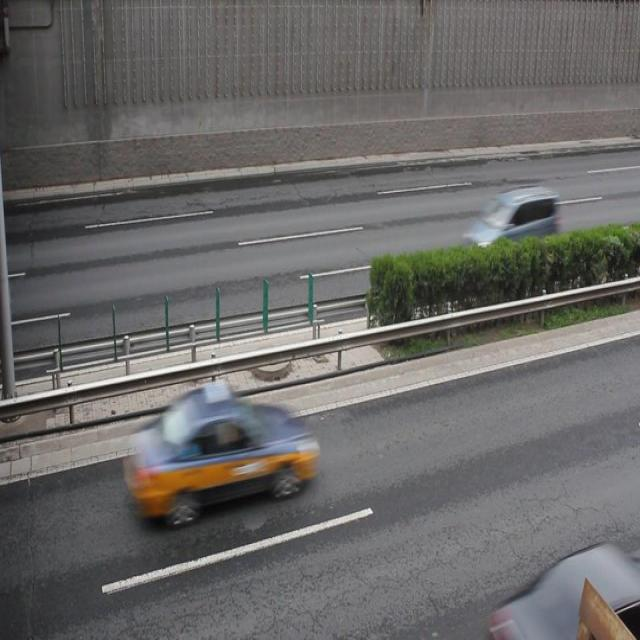car: (124, 380, 318, 528), (493, 534, 639, 640), (463, 184, 558, 273)
